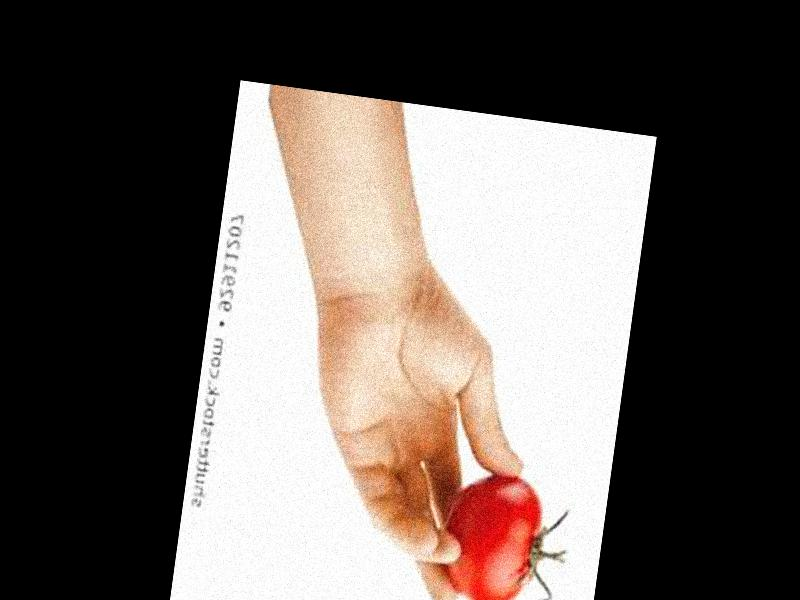Tomato: (433, 467, 547, 600)
